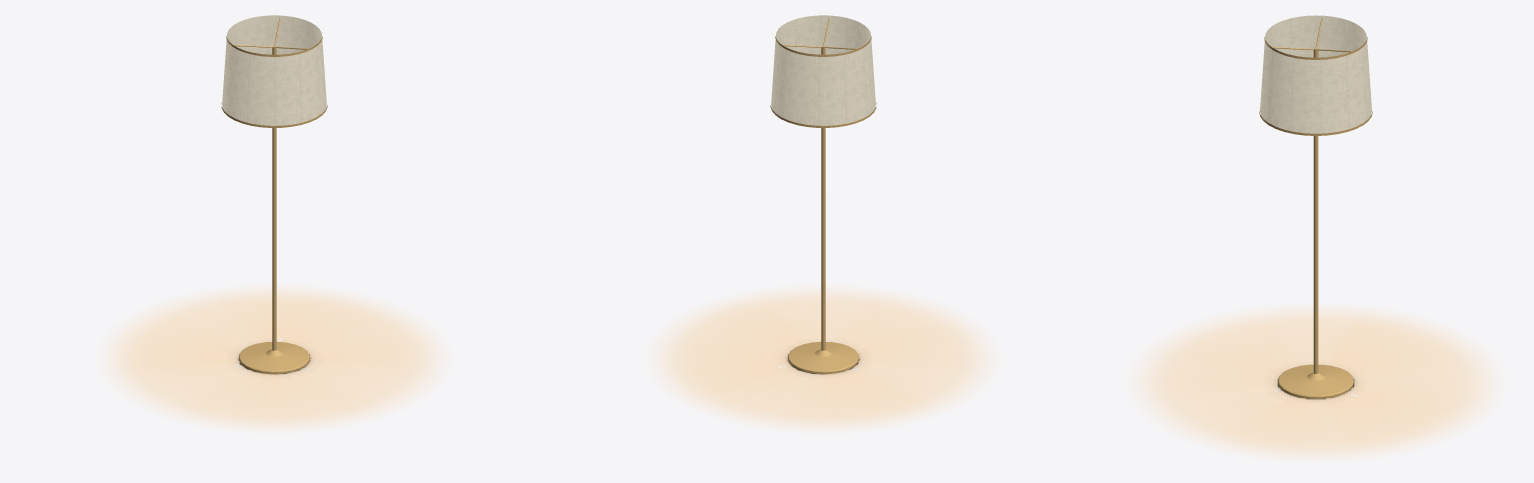
File: floor_lamp.glb
The picture shows the model from 3 angles, left to right: view 1: azimuth 30°, elevation 25°; view 2: azimuth 150°, elevation 25°; view 3: azimuth 270°, elevation 25°; orthographic projection. The views are drawn at different scales.
Parts seen in each view (by area): view 1: floor_lamp_Glow, floor_lamp_LOD0; view 2: floor_lamp_Glow, floor_lamp_LOD0; view 3: floor_lamp_Glow, floor_lamp_LOD0.
Boxes of the visible parts, left/top/right/bottom form: floor_lamp_Glow: left=108, top=288, right=440, bottom=428; floor_lamp_LOD0: left=221, top=15, right=327, bottom=374; floor_lamp_Glow: left=657, top=289, right=988, bottom=428; floor_lamp_LOD0: left=770, top=15, right=876, bottom=374; floor_lamp_Glow: left=1138, top=308, right=1492, bottom=457; floor_lamp_LOD0: left=1259, top=15, right=1372, bottom=398.
Size of what is drawn, in the model's own units: 1.6 by 1.5 by 1.6.
5 materials, 3 textured.
